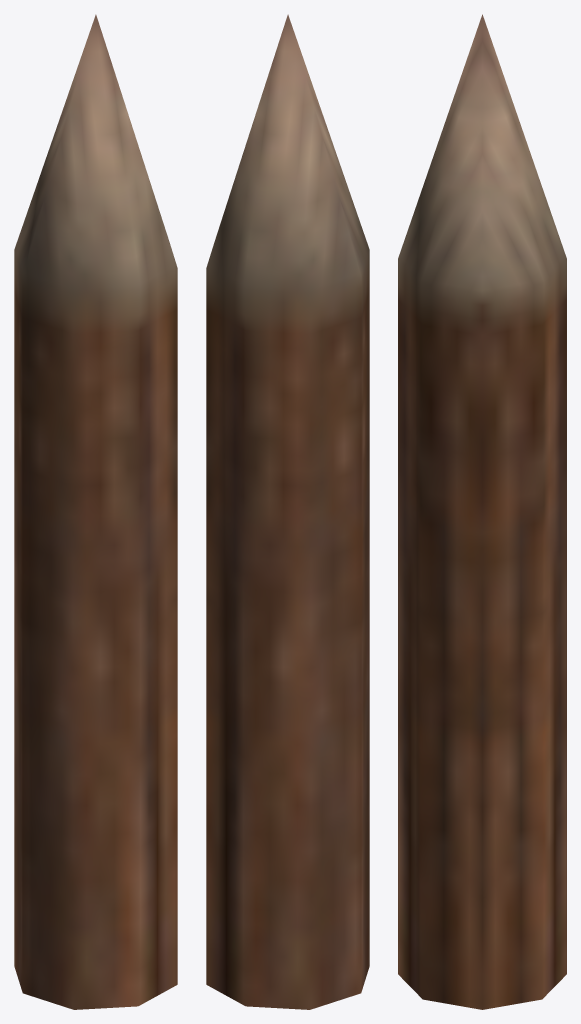
The model's file is thorn.fbx.
3 renders of one model, left to right at view 1: azimuth 30°, elevation 25°; view 2: azimuth 150°, elevation 25°; view 3: azimuth 270°, elevation 25°, orthographic.
Parts seen in each view (by area): view 1: thorn; view 2: thorn; view 3: thorn.
Part boxes in pixels (<box>): thorn: <box>14,14,177,1009</box>; thorn: <box>206,14,369,1009</box>; thorn: <box>398,14,566,1009</box>.
Size of the model in its own units: 116 by 728 by 116.
